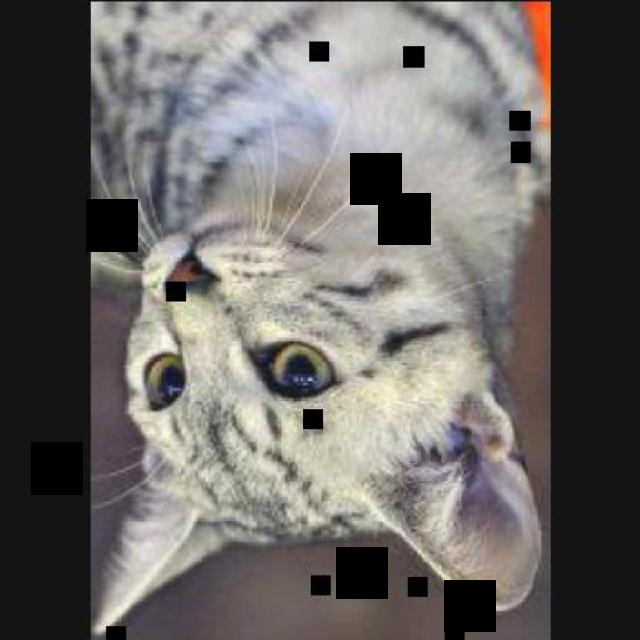unauthorized: (88, 0, 548, 637)
